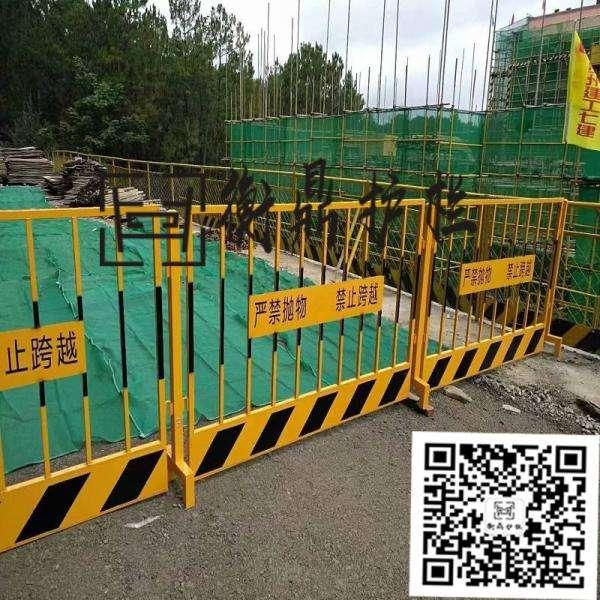sign: (4, 188, 582, 419)
